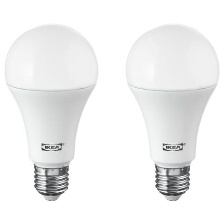light_bulb: (119, 17, 224, 206), (0, 20, 99, 204)
